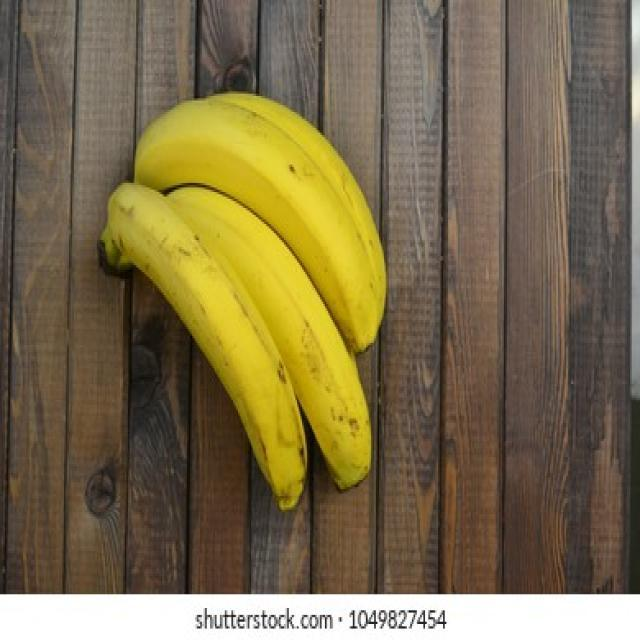banana: (94, 80, 391, 522)
